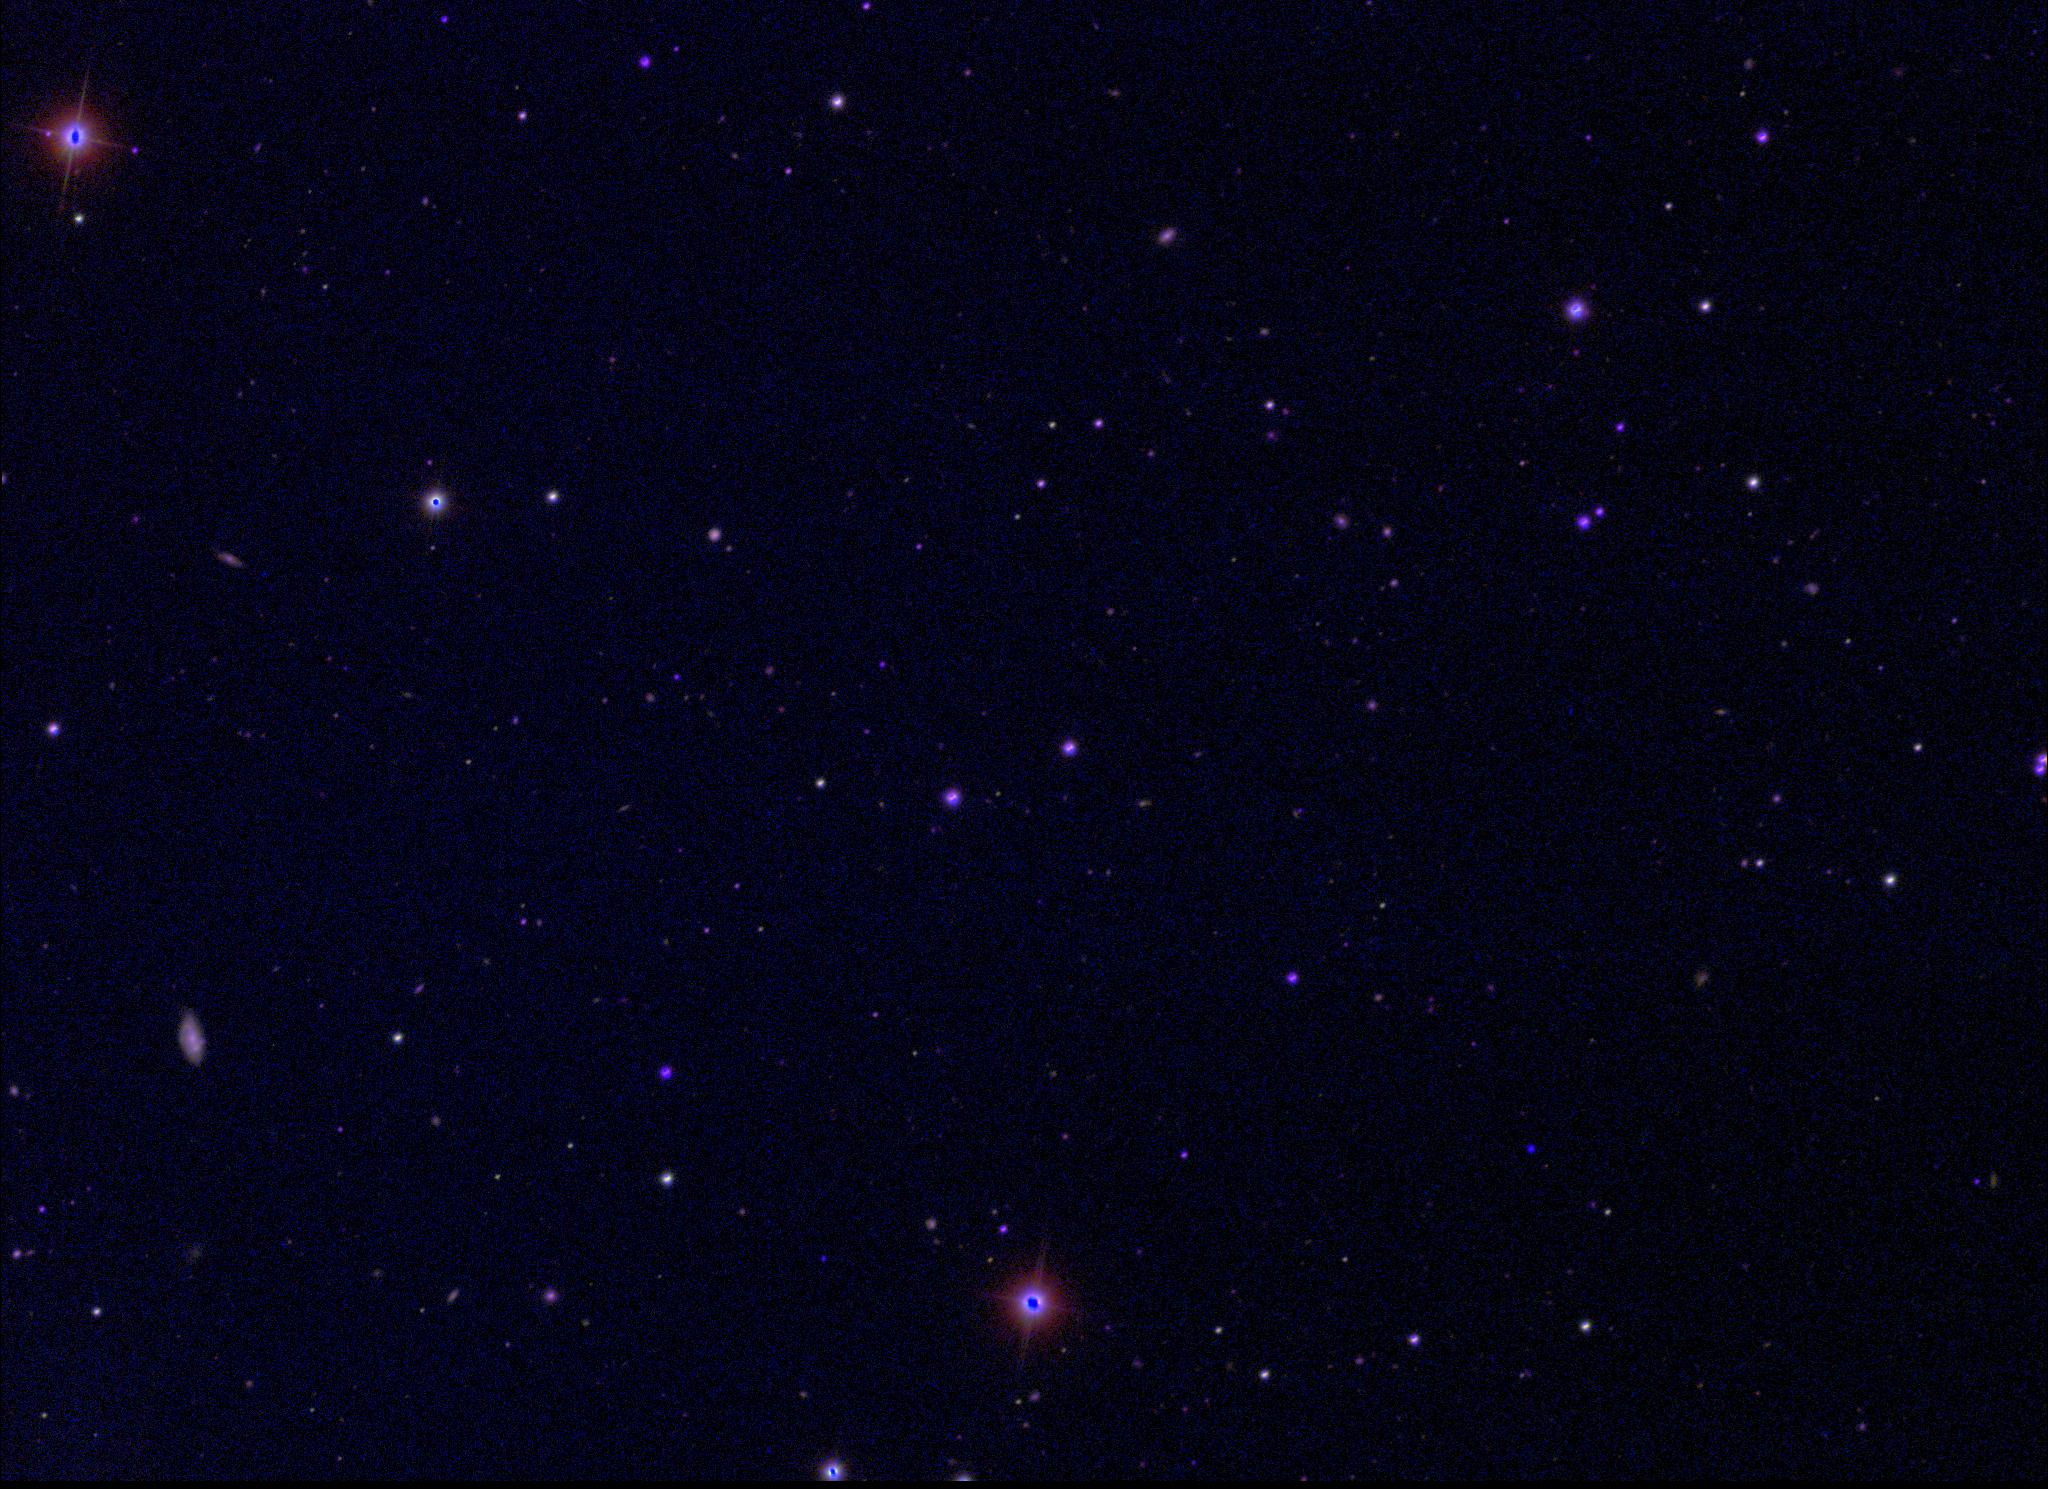L: (1520, 1141, 1534, 1155)
